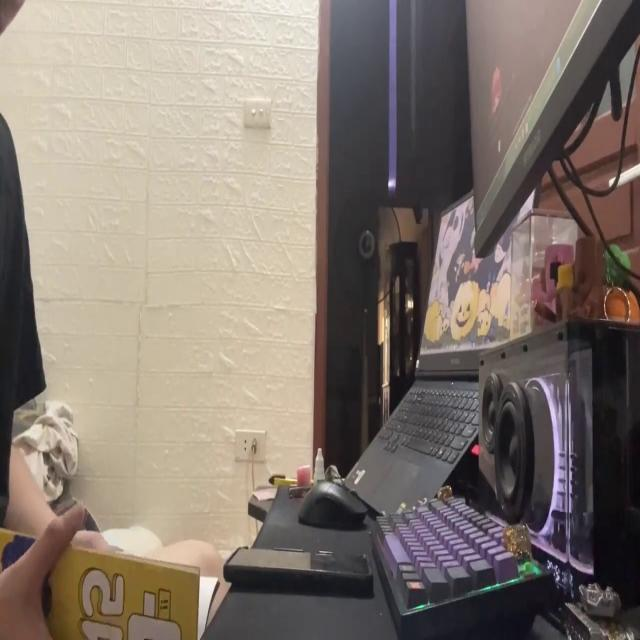book: (1, 520, 219, 640)
laptop: (337, 177, 541, 519), (460, 0, 640, 256)
phone: (221, 539, 375, 602)
student: (1, 0, 99, 640)
